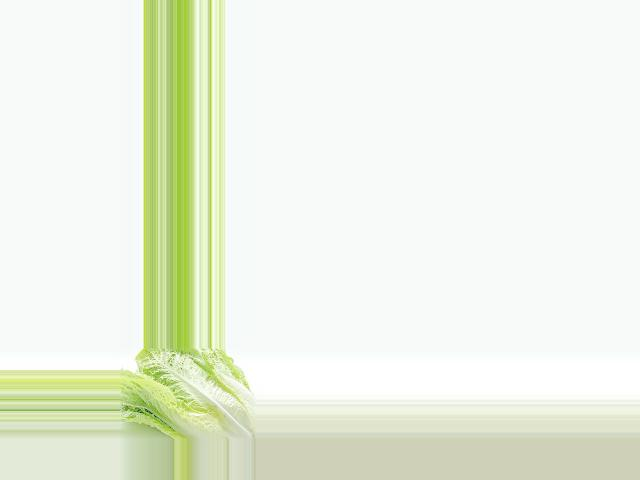lettuce: (118, 349, 255, 438)
